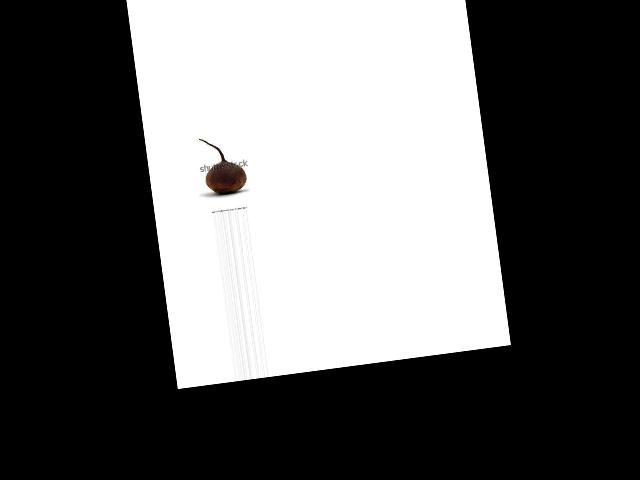beet: (199, 133, 249, 196)
